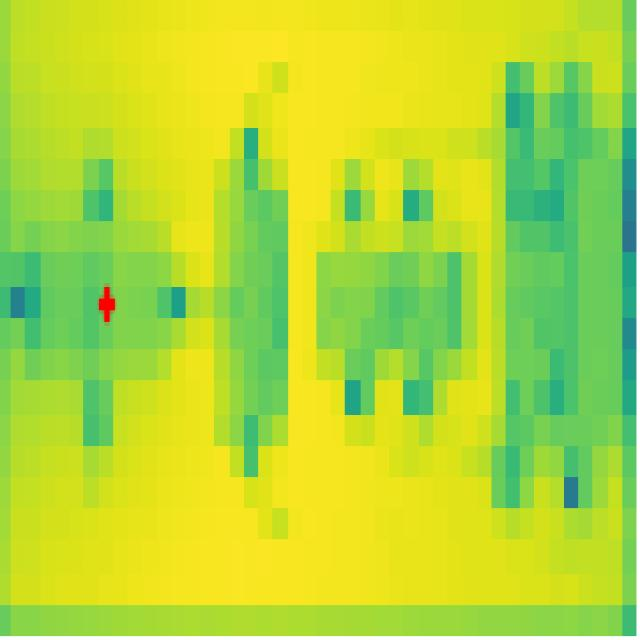Concrete: (316, 225, 480, 382)
Glass: (212, 163, 290, 445)
Metal: (500, 103, 615, 446), (24, 220, 174, 384)
